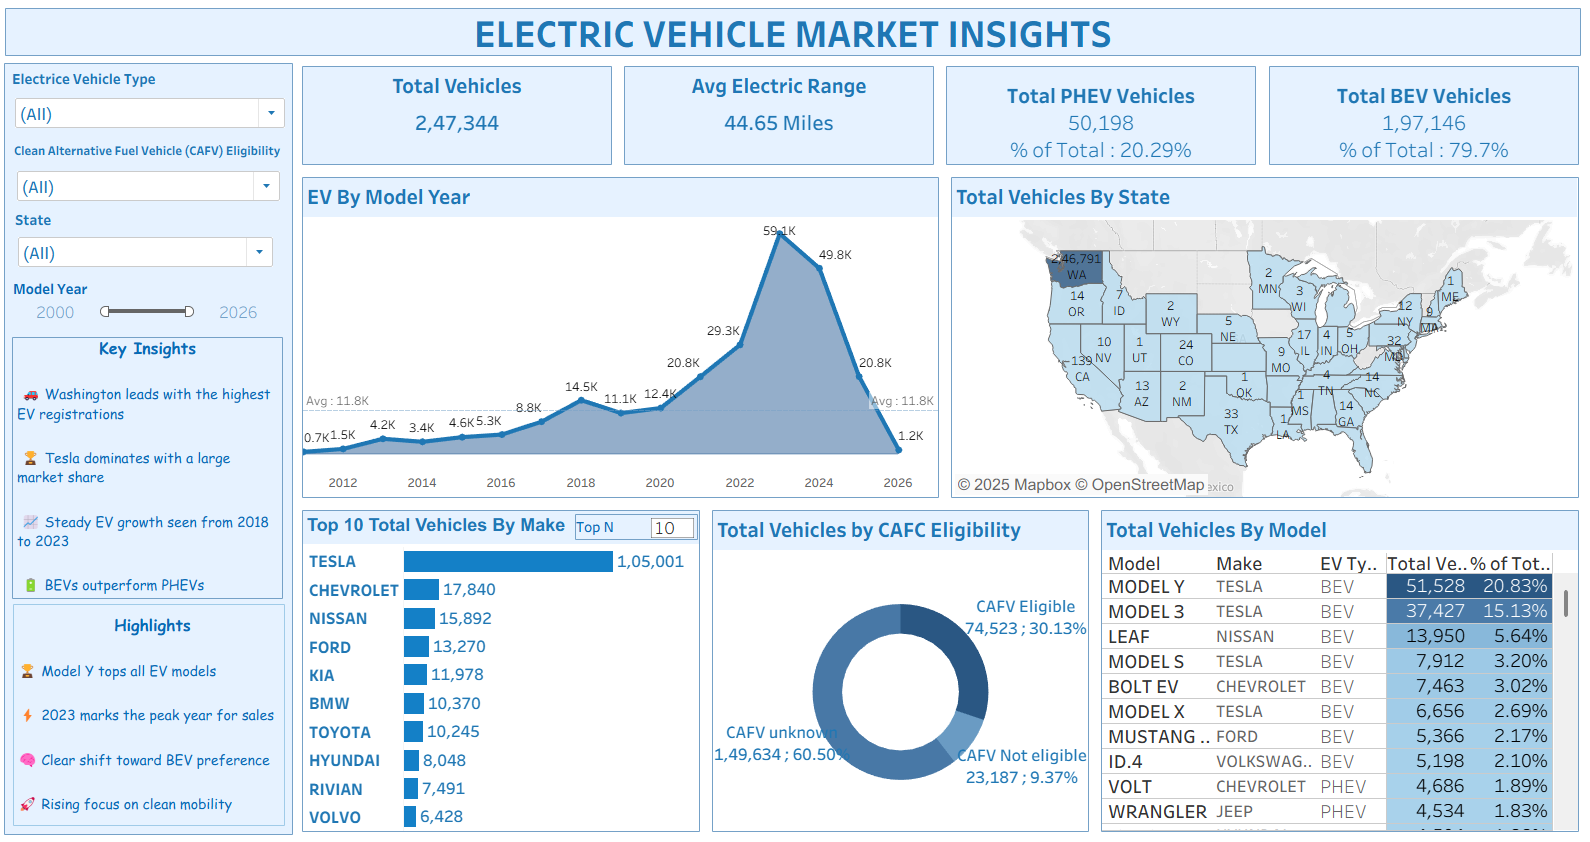

The page's visual inventory and layout, read from the dashboard file:
{"tool":"tableau","page":{"name":"Tableau Dashboard (2)","canvas":[1600,850],"ordinal":1},"visuals":[{"type":"title","box":[8,8,1584,55.7]},{"type":"worksheet","title":"c2","mark":"Automatic","box":[303,63.7,322.2,111.3]},{"type":"worksheet","title":"c1","mark":"Automatic","box":[625.2,63.7,322.2,111.3]},{"type":"worksheet","title":"PHEV","mark":"Automatic","box":[947.5,63.7,322.2,111.3]},{"type":"worksheet","title":"BEV","mark":"Automatic","box":[1269.7,63.7,322.2,111.3]},{"type":"filter","title":"distribution","param":"[federated.0yw8wm01gj01z919hb2dq0ccen3v].[none:Electric Vehicle Type:nk]","box":[22,84,263,61]},{"type":"filter","title":"distribution","param":"[federated.0yw8wm01gj01z919hb2dq0ccen3v].[none:Clean Alternative Fuel Vehicle (C","box":[19,153,269,62]},{"type":"worksheet","title":"Count of EVS","mark":"Area","rows":["DOL Vehicle ID","DOL Vehicle ID"],"cols":["Model Year"],"box":[303,175,649.5,332.5]},{"type":"worksheet","title":"Map","mark":"Multipolygon","box":[952.5,175,639.5,332.5]},{"type":"filter","title":"Count of EVS","param":"[federated.0yw8wm01gj01z919hb2dq0ccen3v].[none:Model Year:qk]","box":[20,232,268,57]},{"type":"filter","title":"distribution","param":"[federated.0yw8wm01gj01z919hb2dq0ccen3v].[none:State:nk]","box":[21,290,261,62]},{"type":"text","box":[21,362,271,201]},{"type":"worksheet","title":"distribution","mark":"Bar","rows":["Make"],"cols":["DOL Vehicle ID"],"box":[303,507.5,411,334.4]},{"type":"worksheet","title":"PIE","mark":"Pie","rows":["Calculation_285415628102529030","Calculation_285415628102529030"],"box":[714,507.5,405,334.4]},{"type":"worksheet","title":"TABLE","mark":"Square","rows":["Model","Make","Electric Vehicle Type"],"box":[1119,507.5,473,334.5]},{"type":"parameter","param":"[Parameters].[Parameter 2]","box":[582,518,123,26]},{"type":"text","box":[18,609,272,210]}]}

Visuals, with their boxes in screenshot pixels (x1, y1, x2, y2), scaled from the page's 1600x850 canvas onto the 1590x842 screenshot:
title: 8:8:1582:63
"c2" worksheet: 301:63:621:173
"c1" worksheet: 621:63:941:173
"PHEV" worksheet: 942:63:1262:173
"BEV" worksheet: 1262:63:1582:173
"distribution" filter: 22:83:283:144
"distribution" filter: 19:152:286:213
"Count of EVS" worksheet (Area marks): 301:173:947:503
"Map" worksheet (Multipolygon marks): 947:173:1582:503
"Count of EVS" filter: 20:230:286:286
"distribution" filter: 21:287:280:349
text: 21:359:290:558
"distribution" worksheet (Bar marks): 301:503:710:834
"PIE" worksheet (Pie marks): 710:503:1112:834
"TABLE" worksheet (Square marks): 1112:503:1582:834
parameter: 578:513:701:539
text: 18:603:288:811
